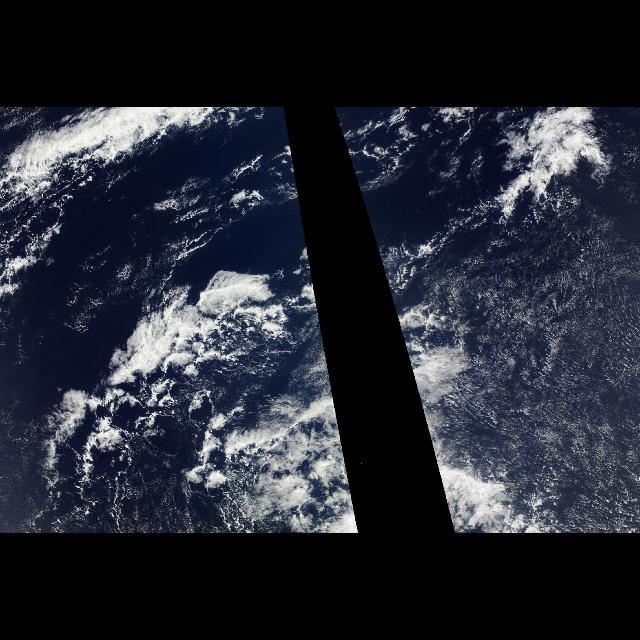Fish: (27, 265, 300, 459), (1, 110, 239, 178)
Sugar: (440, 242, 640, 530)
